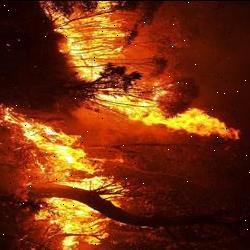fire: (50, 0, 240, 145), (3, 118, 127, 250)
